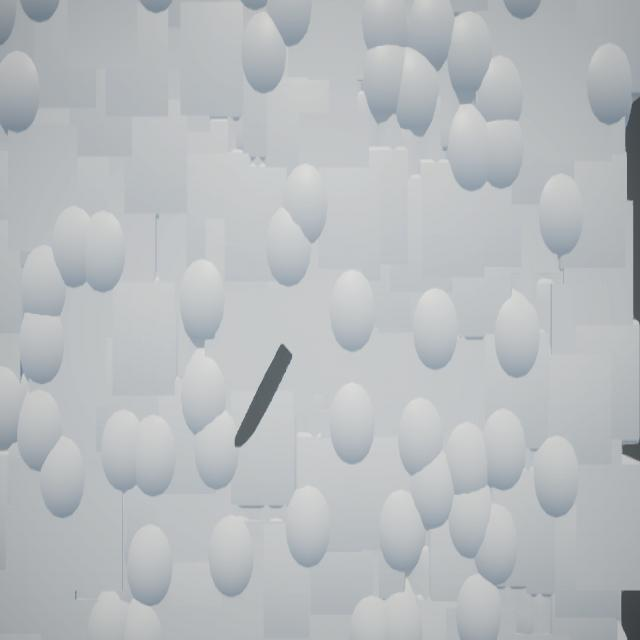top_knife: (235, 344, 294, 449)
